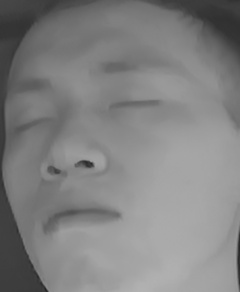blink: (104, 89, 165, 121), (10, 107, 56, 137)
mouth: (34, 192, 129, 240)
